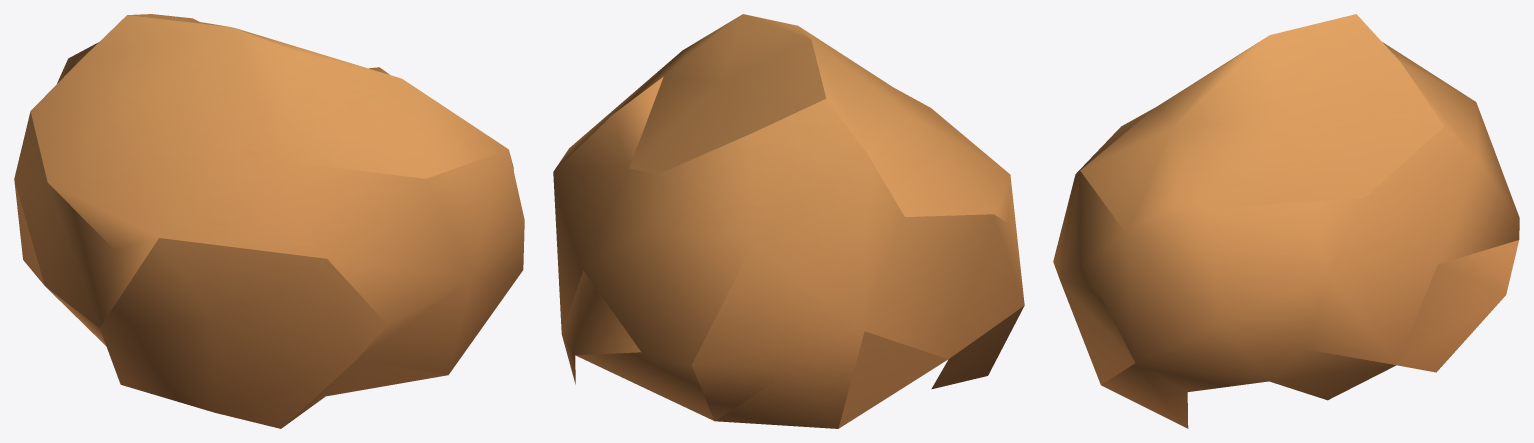
3 views of the same model, side by side, from view 1: azimuth 30°, elevation 25°; view 2: azimuth 150°, elevation 25°; view 3: azimuth 270°, elevation 25° (orthographic). The views are drawn at different scales.
Visible parts, largest first — view 1: diorama.002; view 2: diorama.002; view 3: diorama.002.
Boxes of the visible parts, x1,y1,x2,y2 form: diorama.002: (14, 14, 524, 428); diorama.002: (553, 14, 1024, 428); diorama.002: (1053, 14, 1519, 428).
Size of the model in its own units: 63.3 by 47.58 by 62.88.
